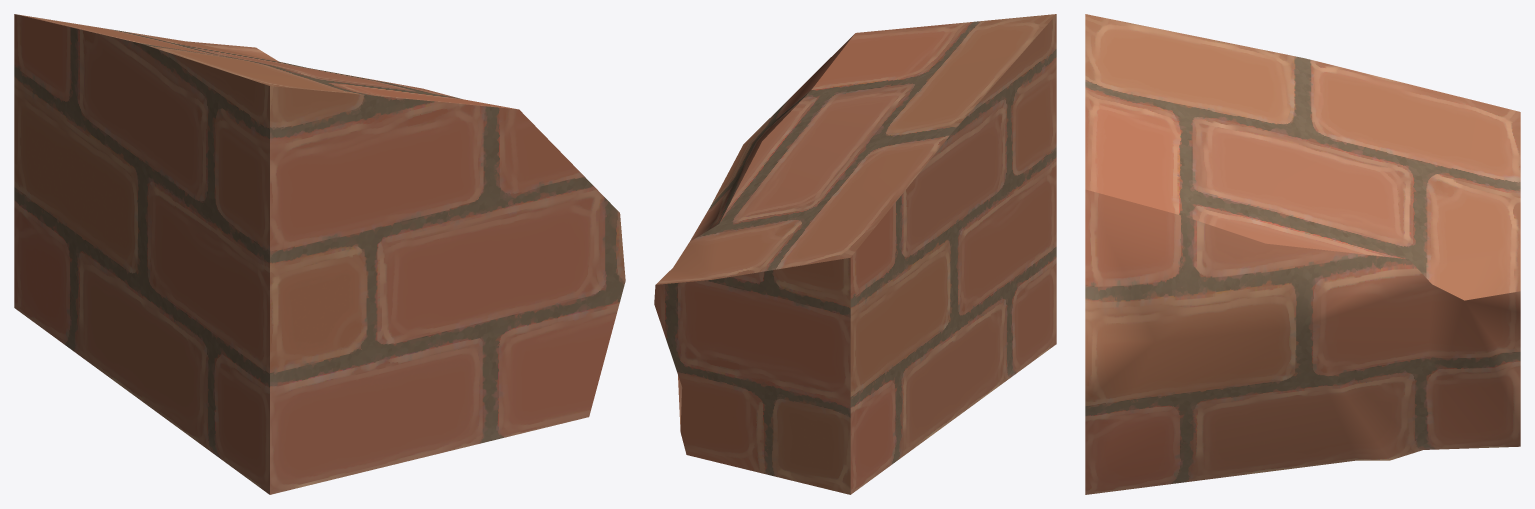
File: gib1.fbx
3 views of the same model, side by side, from view 1: azimuth 30°, elevation 25°; view 2: azimuth 150°, elevation 25°; view 3: azimuth 270°, elevation 25° (orthographic). The views are drawn at different scales.
Visible parts, largest first — view 1: gib1; view 2: gib1; view 3: gib1.
Part boxes in pixels (<box>): gib1: <box>14,14,625,494</box>; gib1: <box>654,14,1056,494</box>; gib1: <box>1085,14,1520,494</box>.
Bounding box in the file's own units: 25.73 × 28.25 × 32.
1 material, 1 textured.
